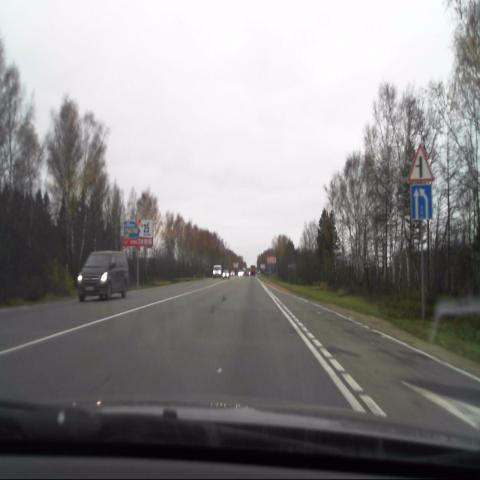2_3_3: (409, 142, 433, 183)
